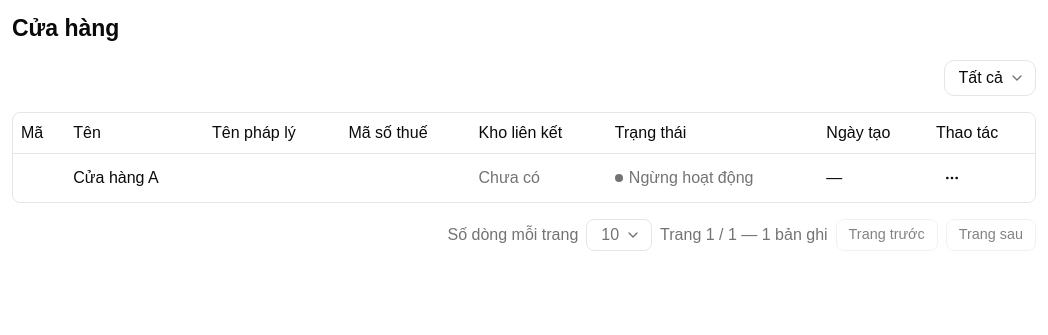
StoresPage — gác theo authority (cờ bật) › STORE_UPDATE + WAREHOUSE_UPDATE + WAREHOUSE_READ → có Gán kho
Click the button named "Thao tác với Cửa hàng A": (952, 178) [936,162,968,194]
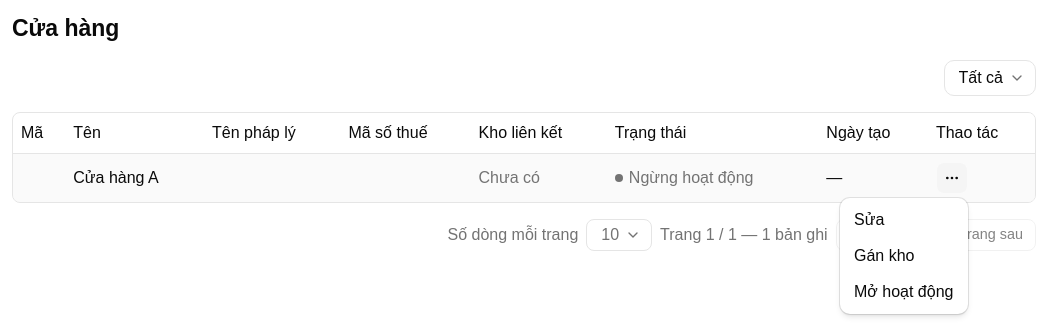
Check: the menu item "Gán kho" is shown, box [854,247,914,264]
